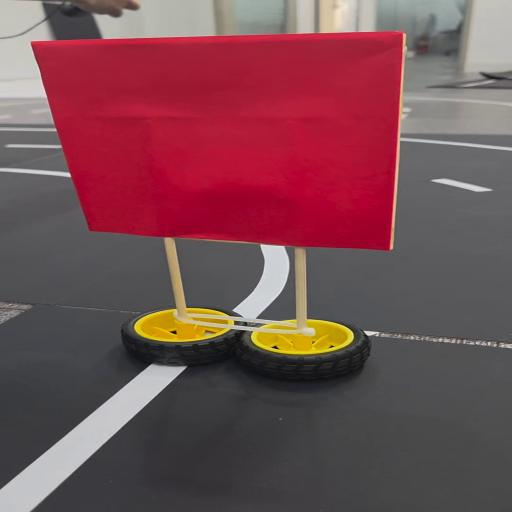Sign_A: (18, 25, 392, 397)
